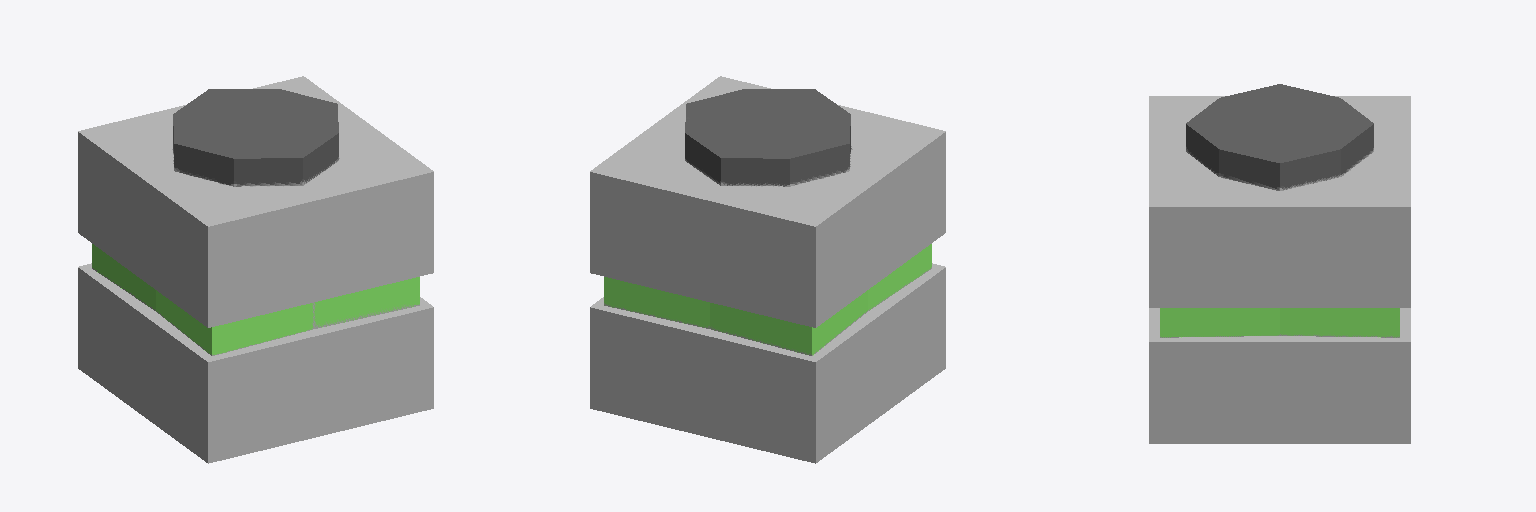
3 renders of one model, left to right at view 1: azimuth 30°, elevation 25°; view 2: azimuth 150°, elevation 25°; view 3: azimuth 270°, elevation 25°, orthographic.
Parts seen in each view (by area): view 1: P_Hand_R; view 2: P_Hand_R; view 3: P_Hand_R.
Boxes of the visible parts, <box> form: P_Hand_R: <box>78,76,433,463</box>; P_Hand_R: <box>590,76,945,463</box>; P_Hand_R: <box>1149,84,1410,443</box>.
Size of the model in its own units: 0.3255 by 0.3638 by 0.3255.
1 materials, 1 textured.